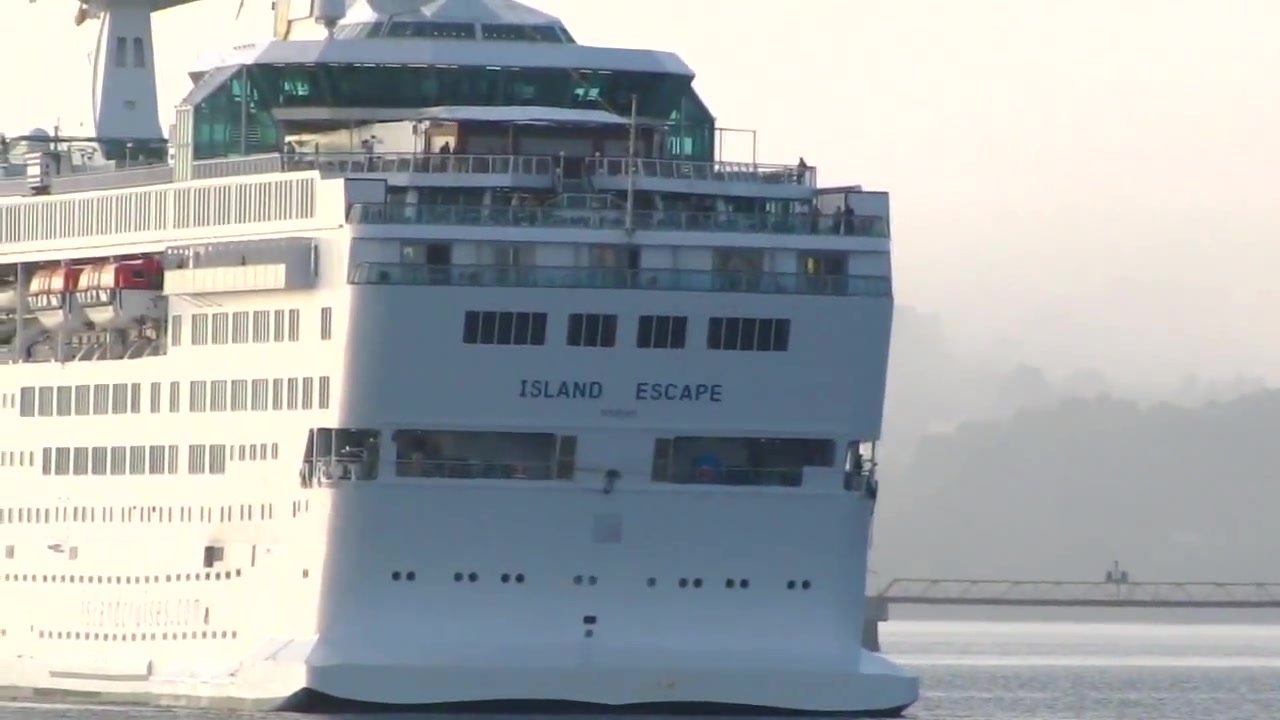boat: (1, 1, 923, 718)
